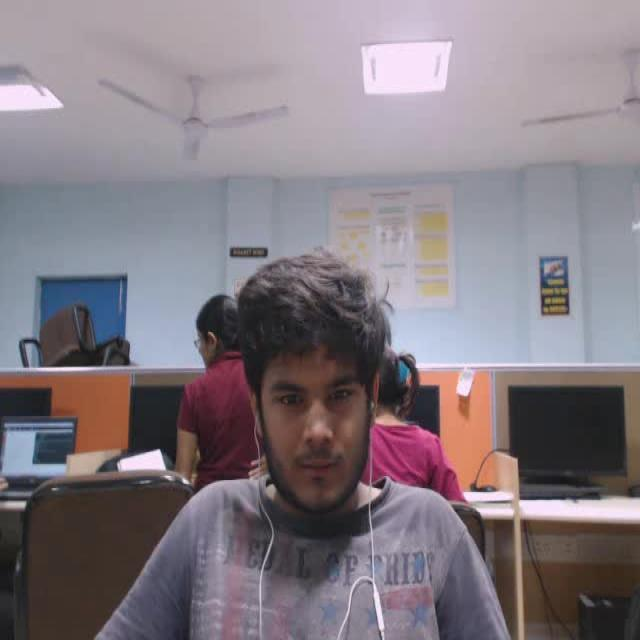Engaged: (229, 224, 409, 544)
